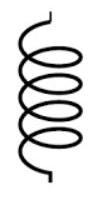inductor: (16, 12, 83, 182)
